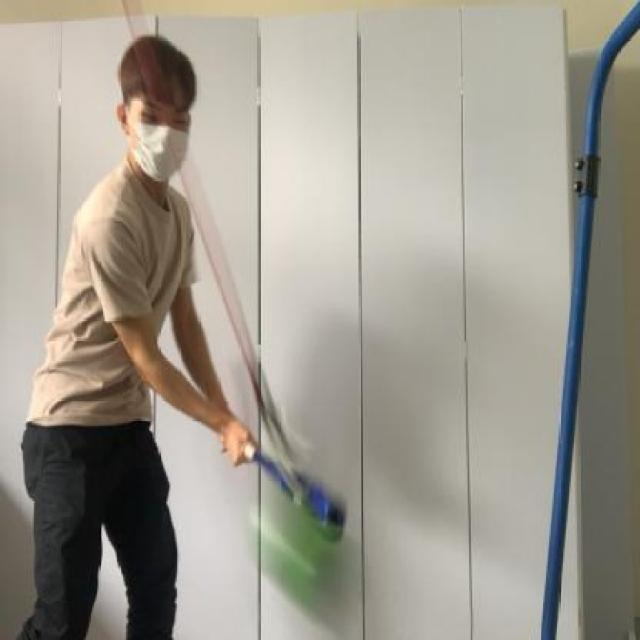baseball: (244, 484, 354, 610)
